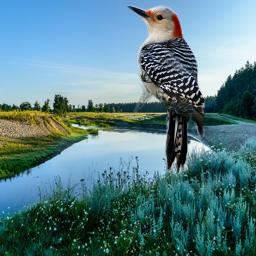Woodpecker: (127, 5, 205, 173)
